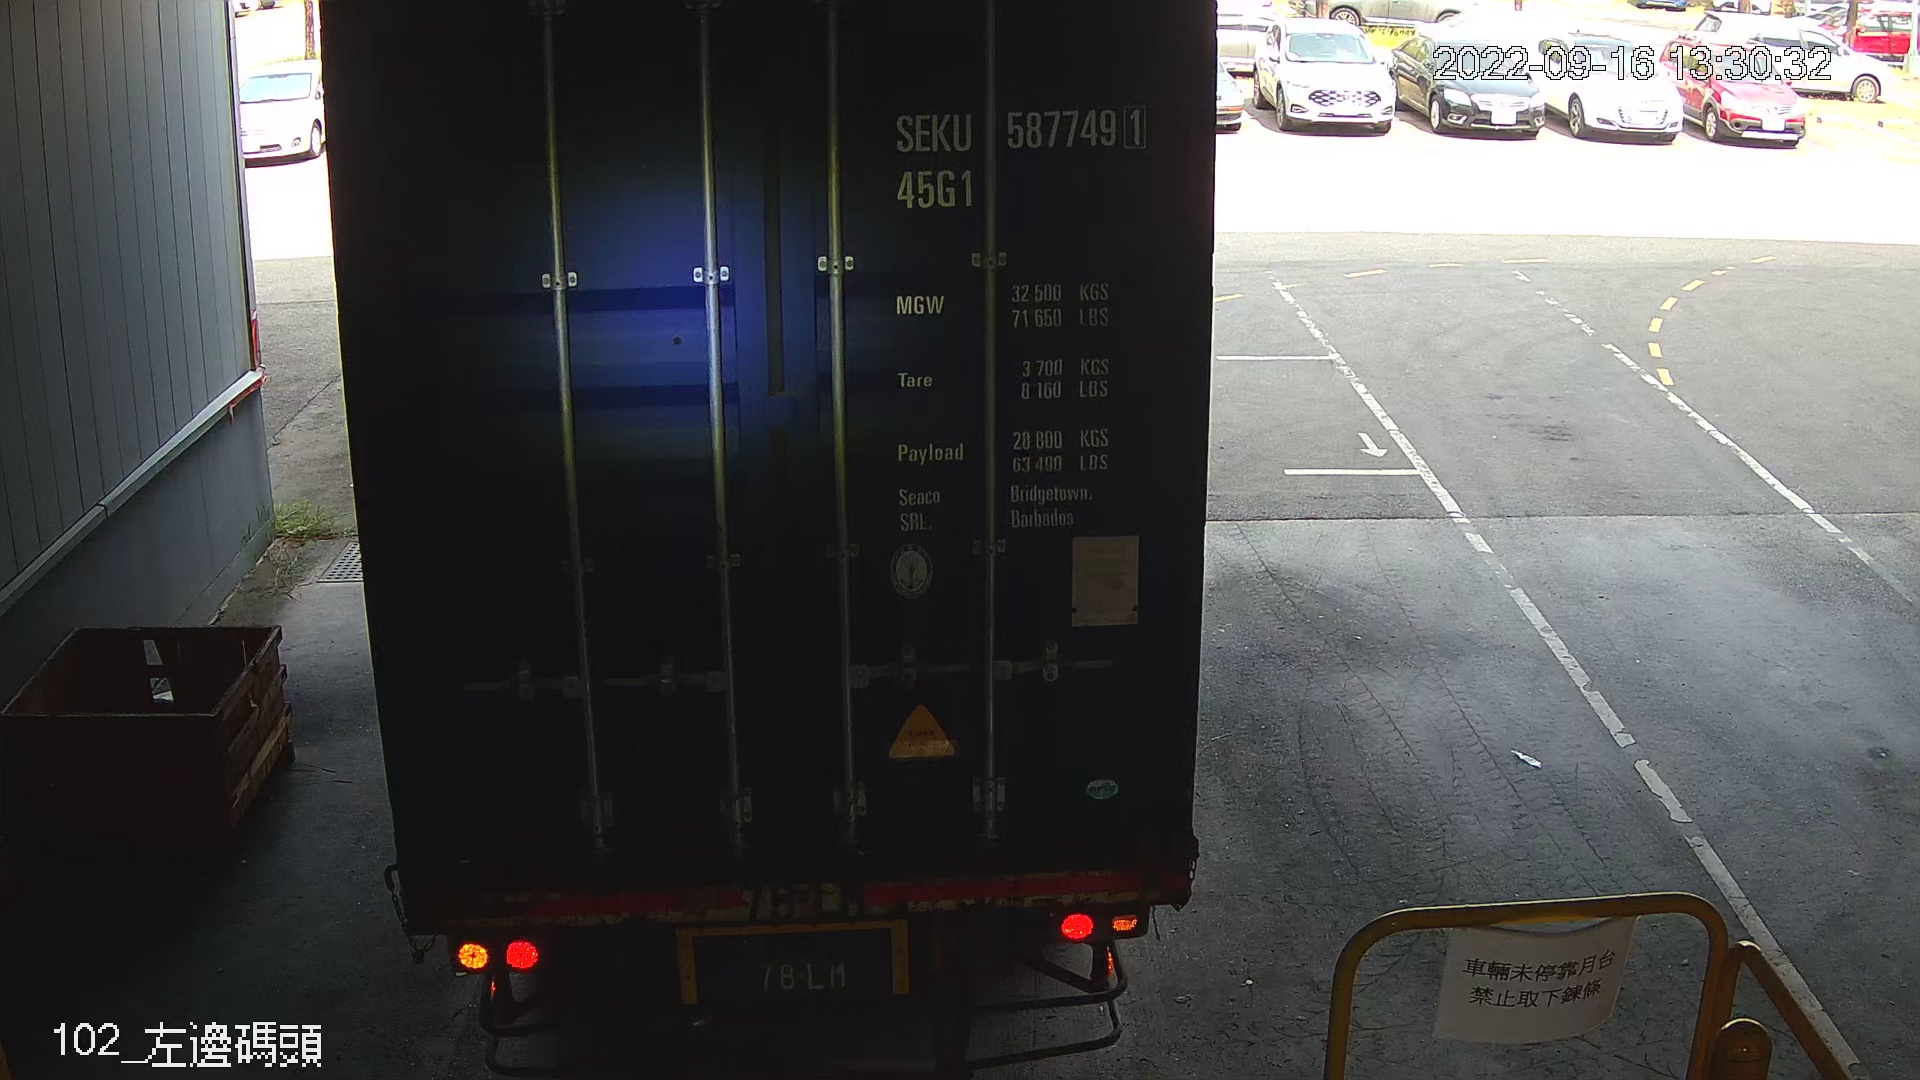container: (876, 99, 1163, 222)
